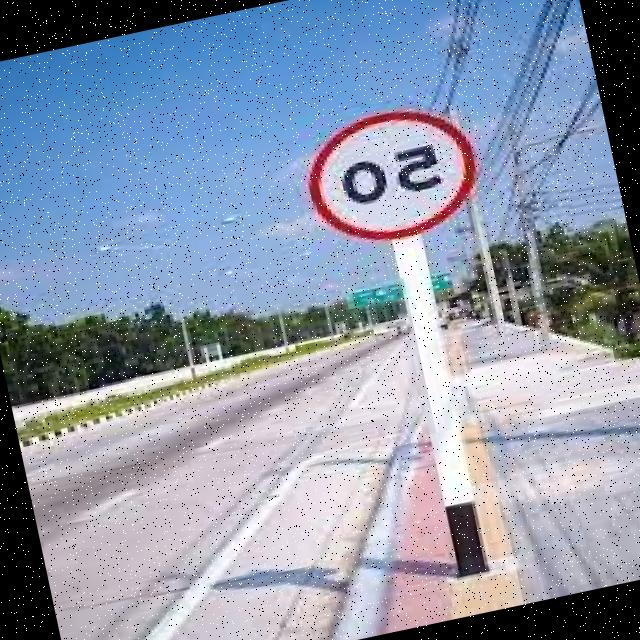speed_limit_50: (282, 88, 493, 263)
